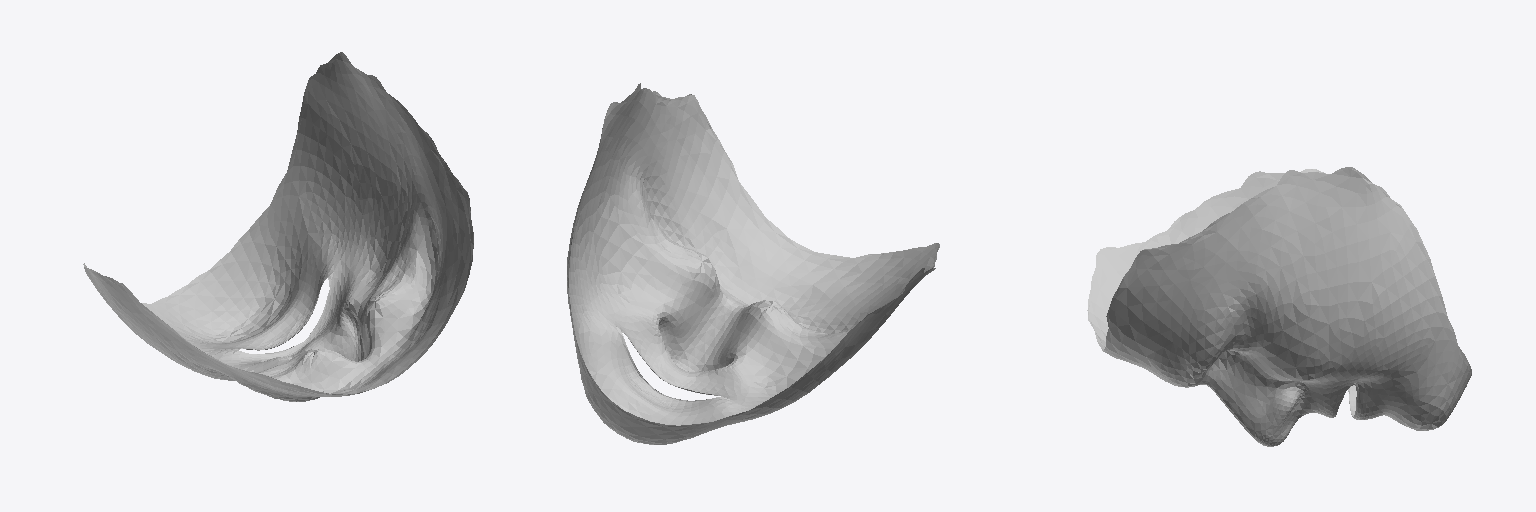
Rendered from face_gab_sfm32.obj.
3 renders of one model, left to right at view 1: azimuth 30°, elevation 25°; view 2: azimuth 150°, elevation 25°; view 3: azimuth 270°, elevation 25°, orthographic.
Bounding box in the file's own units: 164 × 152 × 179.